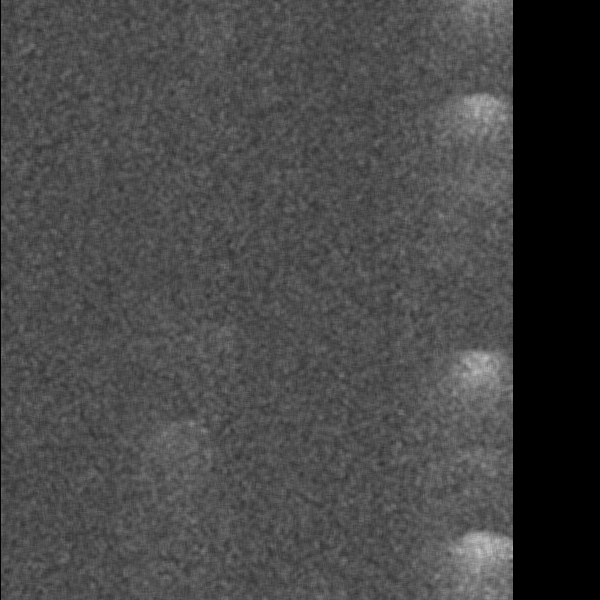spark: (428, 84, 513, 148), (451, 346, 509, 430), (153, 423, 182, 451)
